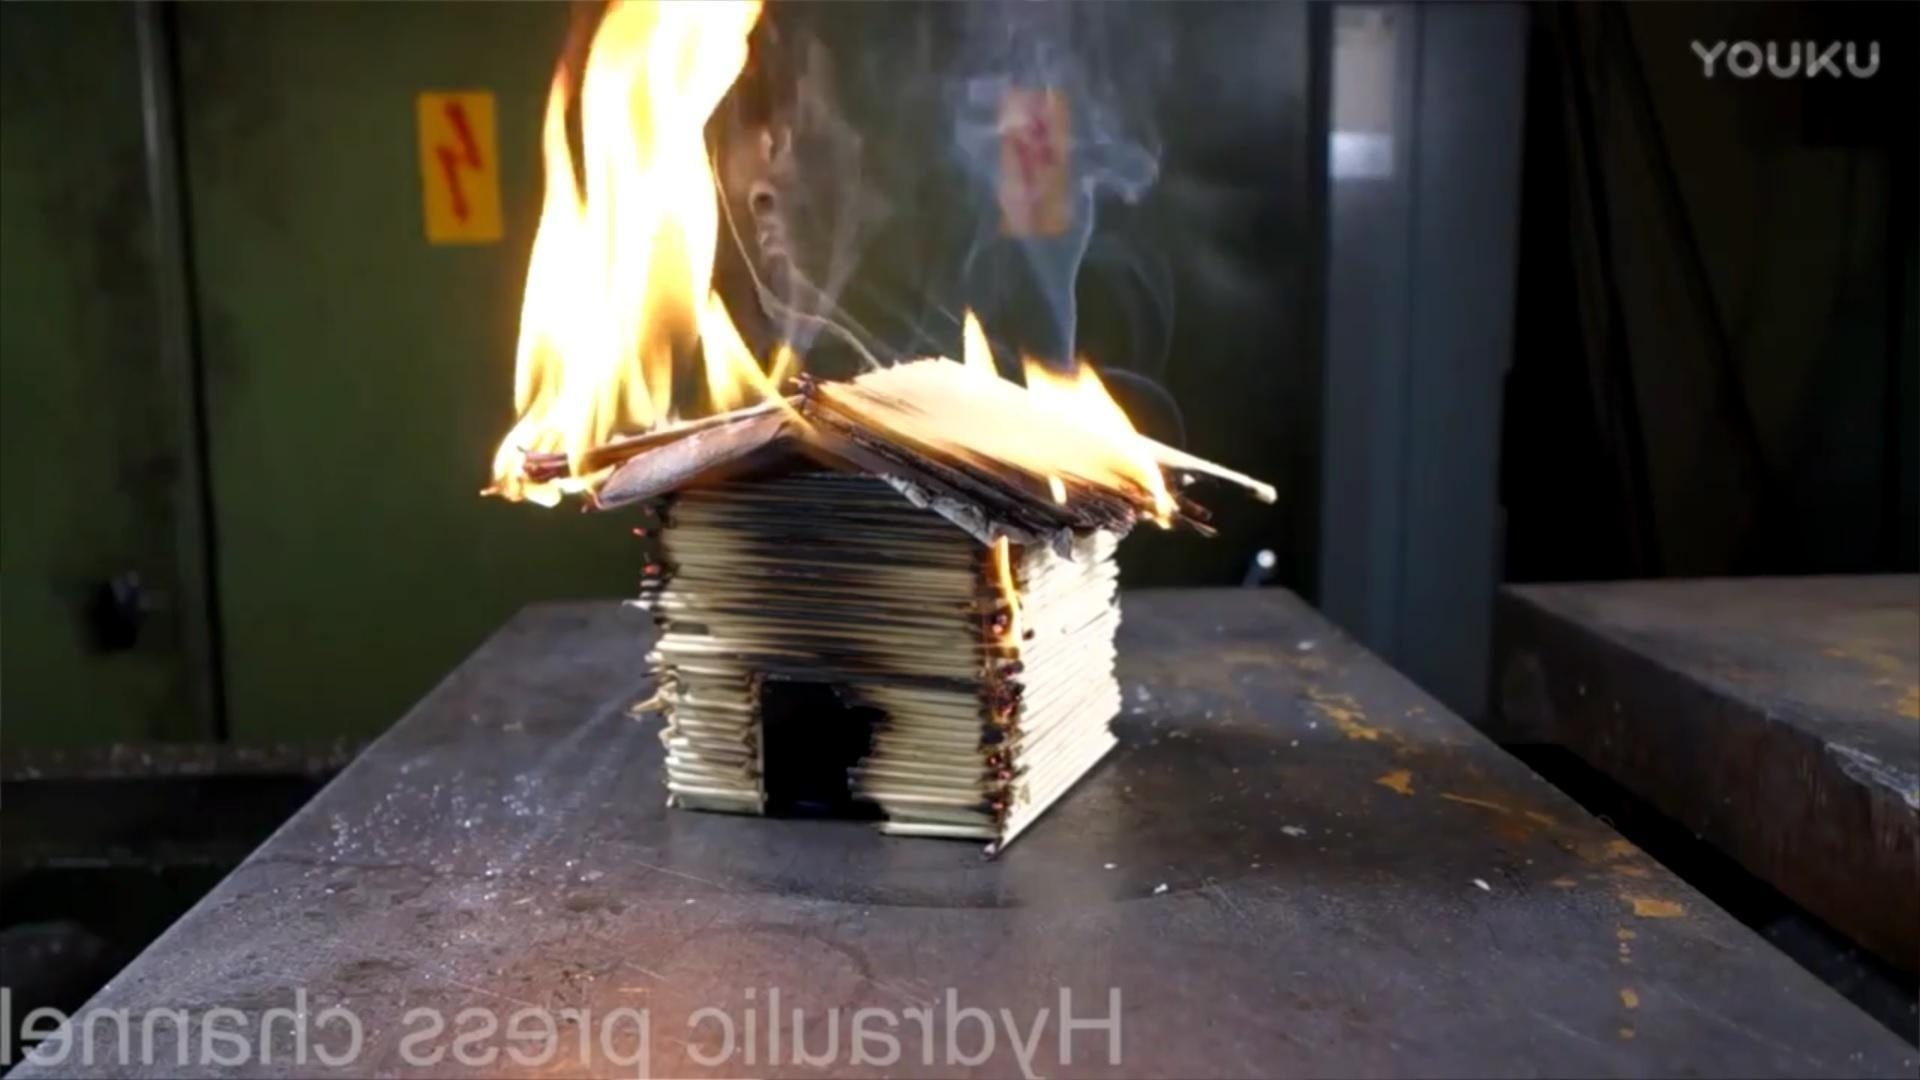fire: (498, 3, 789, 496), (881, 313, 1189, 524), (982, 534, 1029, 655)
